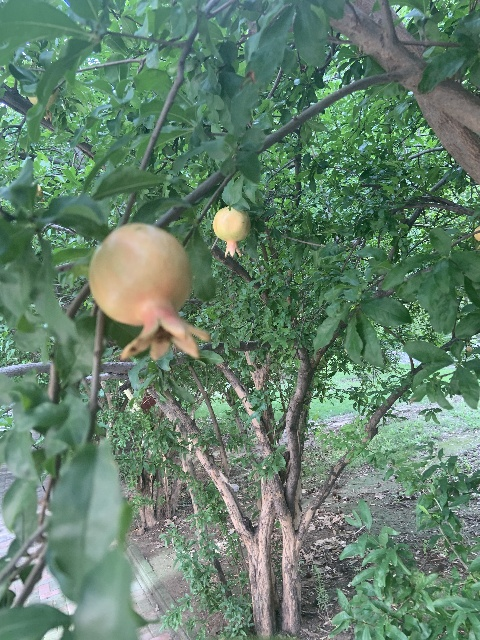mid-growth: (88, 223, 211, 362), (212, 206, 250, 258)
